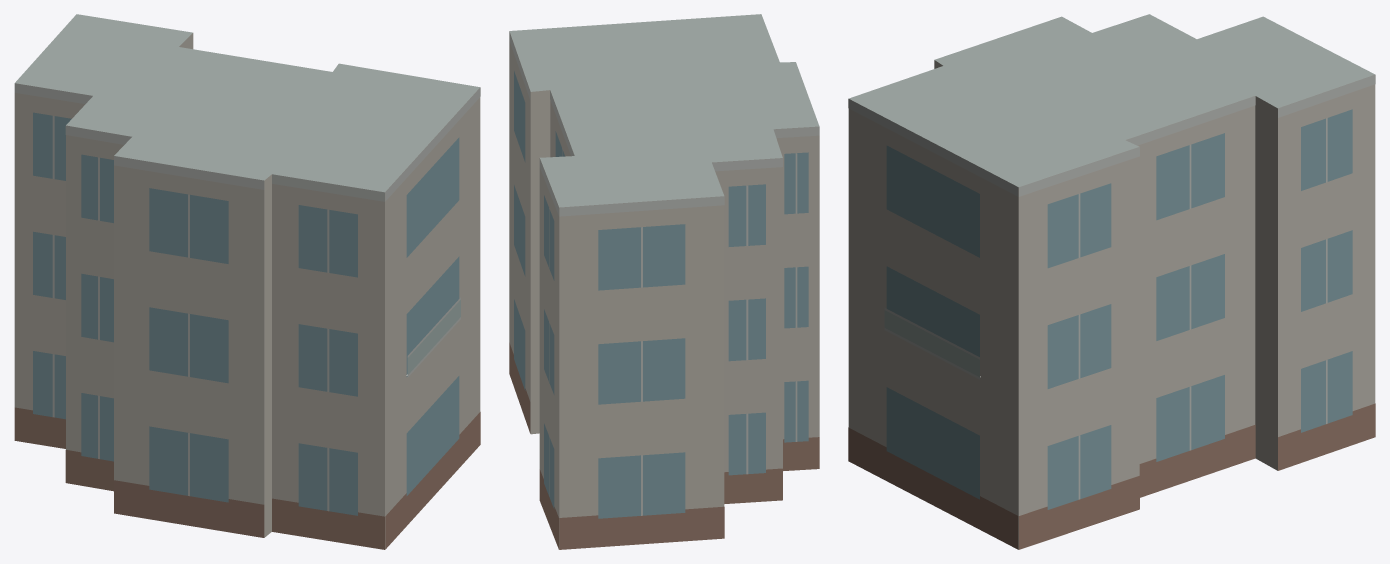
The model's file is survey-upis-32696430.glb.
The picture shows the model from 3 angles, left to right: view 1: azimuth 30°, elevation 25°; view 2: azimuth 150°, elevation 25°; view 3: azimuth 270°, elevation 25°; orthographic projection. The views are drawn at different scales.
Visible parts, largest first — view 1: survey-upis-32696430.tmp; view 2: survey-upis-32696430.tmp; view 3: survey-upis-32696430.tmp.
Part boxes in pixels (x1=…): survey-upis-32696430.tmp: x1=14, y1=14, x2=480, y2=549; survey-upis-32696430.tmp: x1=509, y1=14, x2=819, y2=549; survey-upis-32696430.tmp: x1=848, y1=14, x2=1375, y2=549.
Bounding box in the file's own units: 9.39 × 9.15 × 12.06.
